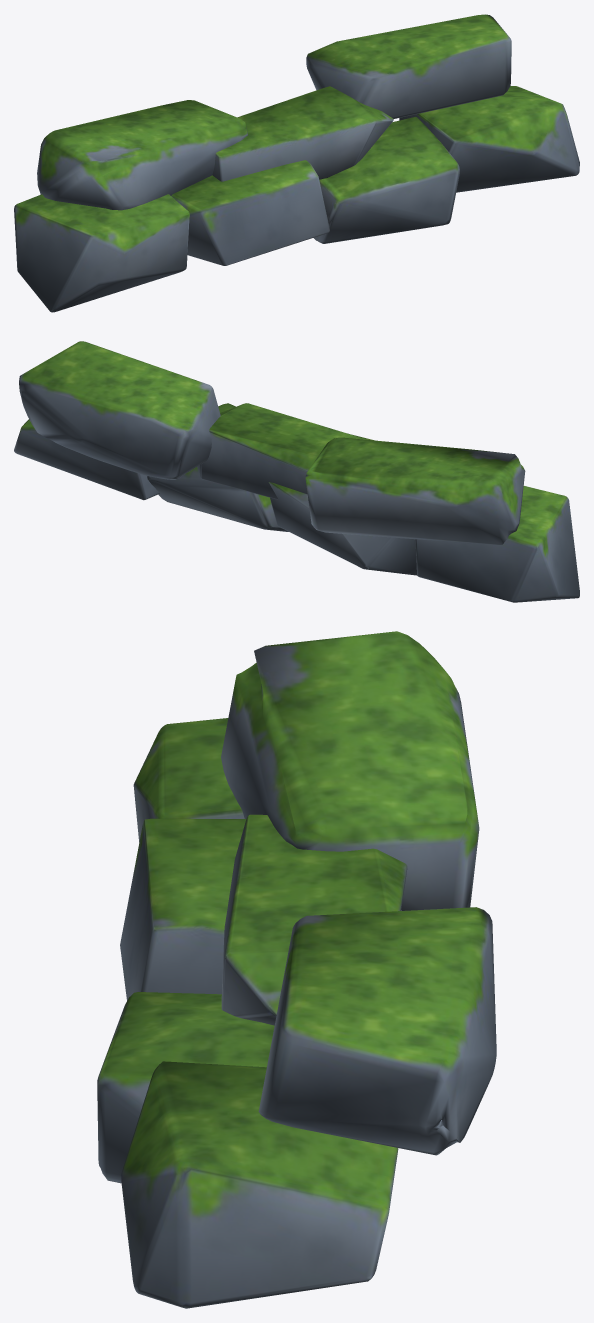
The model's file is cliff_c.glb.
3 views of the same model, one above another, from view 1: azimuth 30°, elevation 25°; view 2: azimuth 150°, elevation 25°; view 3: azimuth 270°, elevation 25° (orthographic). The views are drawn at different scales.
Visible parts, largest first — view 1: cliff_c; view 2: cliff_c; view 3: cliff_c.
Part boxes in pixels (x1,y1,x2,y2): cliff_c: (14, 14, 579, 312); cliff_c: (14, 341, 579, 602); cliff_c: (97, 631, 496, 1308).
Size of the model in its own units: 6.43 by 1.74 by 2.12.
1 material, 1 textured.
